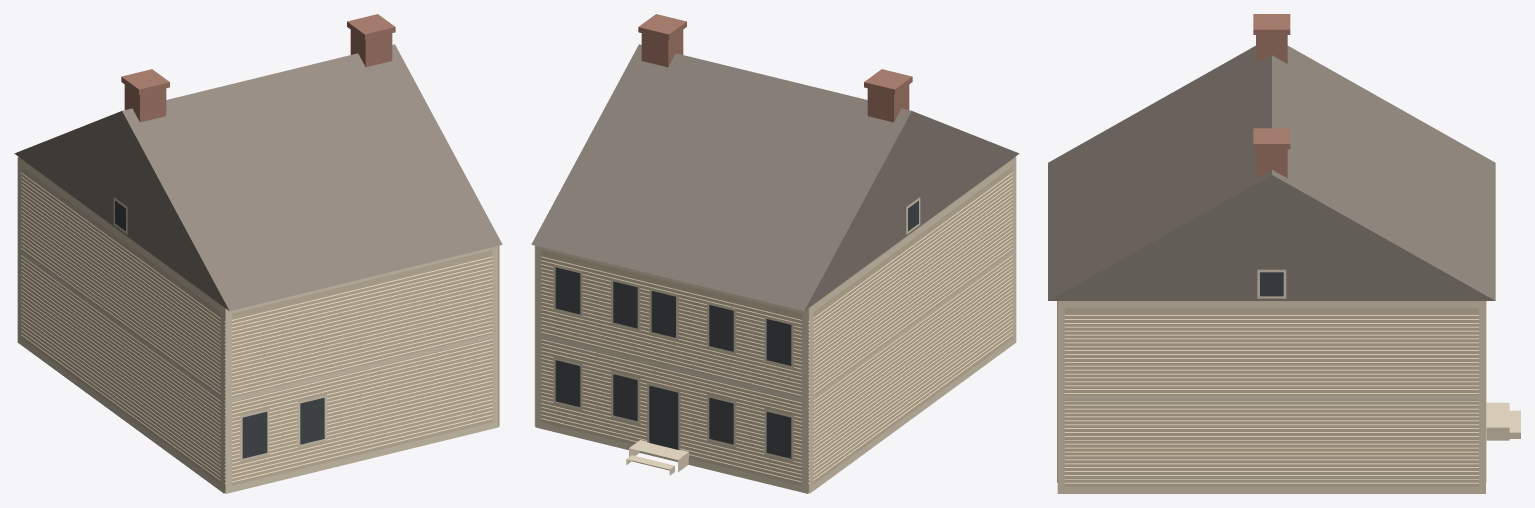
The model's file is recon_1835_blk_randolph_wells_h2_01__inferred_1835.glb.
The picture shows the model from 3 angles, left to right: view 1: azimuth 30°, elevation 25°; view 2: azimuth 150°, elevation 25°; view 3: azimuth 270°, elevation 25°; orthographic projection. The views are drawn at different scales.
Parts seen in each view (by area): view 1: recon_1835_blk_randolph_wells_h2_01__inferred_1835; view 2: recon_1835_blk_randolph_wells_h2_01__inferred_1835; view 3: recon_1835_blk_randolph_wells_h2_01__inferred_1835.
Boxes of the visible parts, <box> form: recon_1835_blk_randolph_wells_h2_01__inferred_1835: <box>14,14,502,493</box>; recon_1835_blk_randolph_wells_h2_01__inferred_1835: <box>531,14,1019,493</box>; recon_1835_blk_randolph_wells_h2_01__inferred_1835: <box>1048,14,1520,493</box>.
Size of the model in its own units: 8.76 by 10.1 by 12.52.
